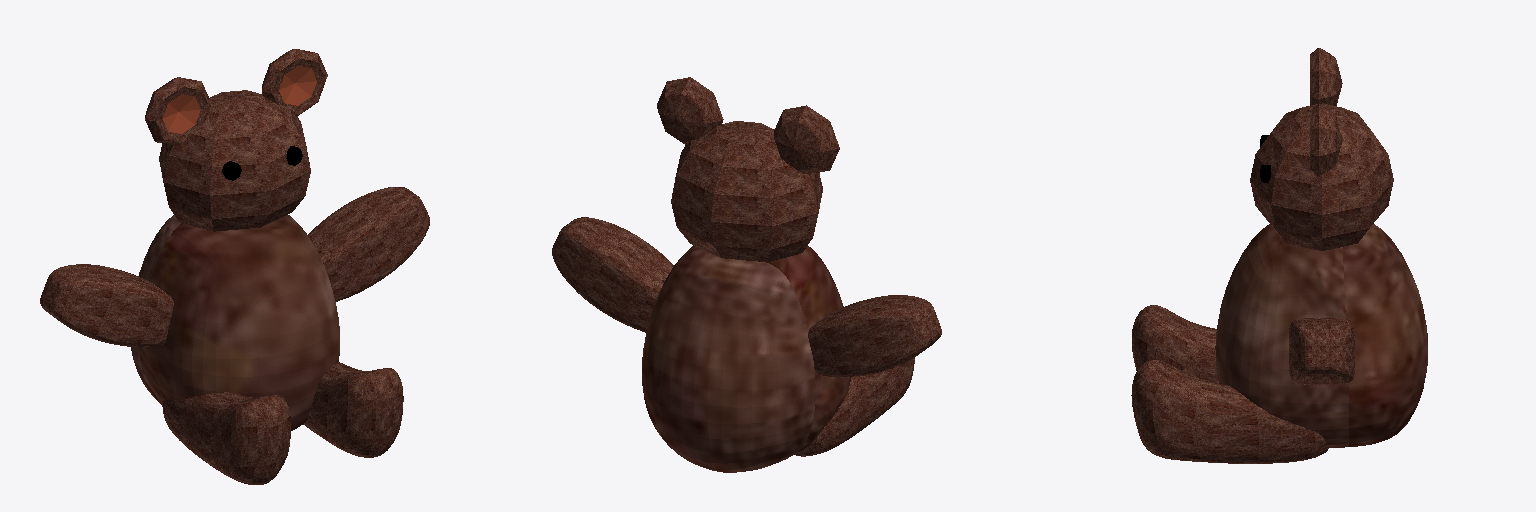
3 views of the same model, side by side, from view 1: azimuth 30°, elevation 25°; view 2: azimuth 150°, elevation 25°; view 3: azimuth 270°, elevation 25° (orthographic).
Parts seen in each view (by area): view 1: 胴体, 頭, 右足, 左腕, 右腕, 左足; view 2: 胴体, 頭, 左腕, 右腕, 右足; view 3: 胴体, 頭, 左足, 右足, 左腕.
Boxes of the visible parts, x1=… form: 胴体: x1=131, y1=215, x2=339, y2=430; 頭: x1=145, y1=49, x2=327, y2=231; 右足: x1=162, y1=392, x2=290, y2=484; 左腕: x1=308, y1=187, x2=429, y2=301; 右腕: x1=40, y1=264, x2=173, y2=346; 左足: x1=303, y1=362, x2=403, y2=457; 胴体: x1=642, y1=245, x2=850, y2=472; 頭: x1=657, y1=77, x2=839, y2=261; 左腕: x1=552, y1=217, x2=673, y2=332; 右腕: x1=808, y1=295, x2=941, y2=377; 右足: x1=795, y1=358, x2=914, y2=456; 胴体: x1=1215, y1=224, x2=1427, y2=447; 頭: x1=1250, y1=48, x2=1393, y2=250; 左足: x1=1131, y1=360, x2=1329, y2=463; 右足: x1=1132, y1=305, x2=1218, y2=383; 左腕: x1=1289, y1=318, x2=1354, y2=384.
Size of the model in its own units: 3.23 by 2.93 by 2.21.
Materials: 4 (1 with a texture image).